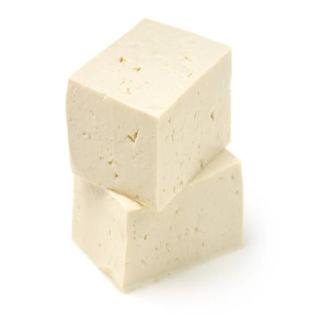Tahu: (60, 12, 254, 305)
